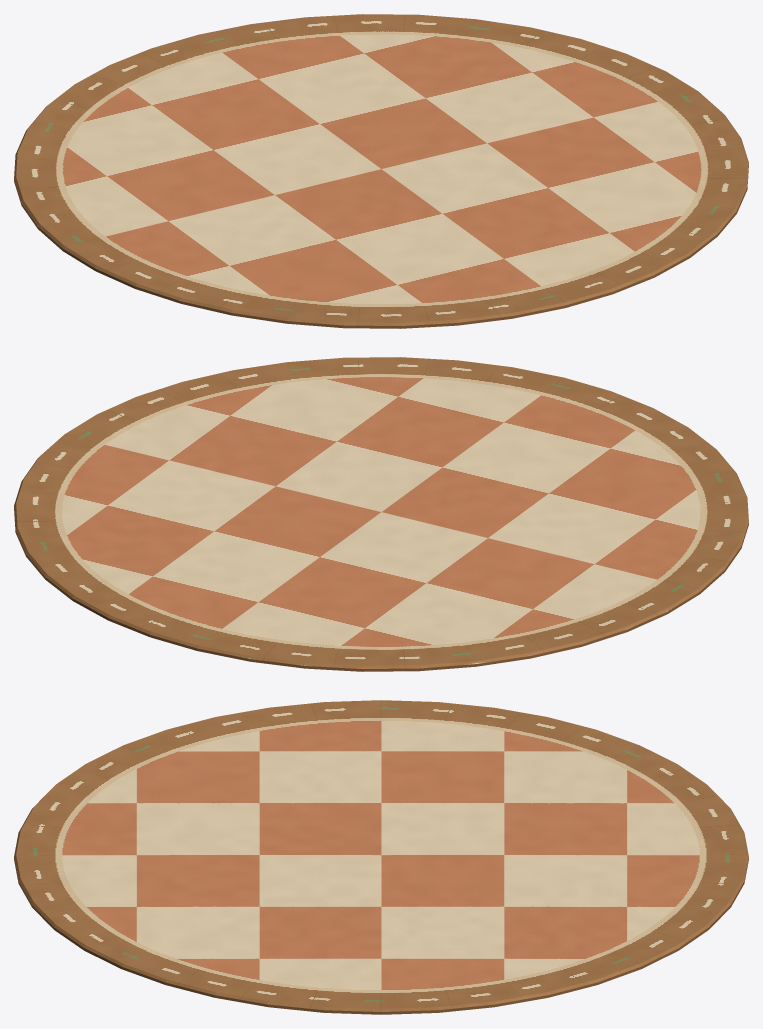
File: 01_CheckRug.fbx
3 views of the same model, one above another, from view 1: azimuth 30°, elevation 25°; view 2: azimuth 150°, elevation 25°; view 3: azimuth 270°, elevation 25° (orthographic).
Visible parts, largest first — view 1: LP_CheckRug; view 2: LP_CheckRug; view 3: LP_CheckRug.
Boxes of the visible parts, x1,y1,x2,y2 form: LP_CheckRug: (14,14,748,328); LP_CheckRug: (14,357,748,671); LP_CheckRug: (14,700,748,1014).
Bounding box in the file's own units: 758 × 6.85 × 758.
1 material, 1 textured.
